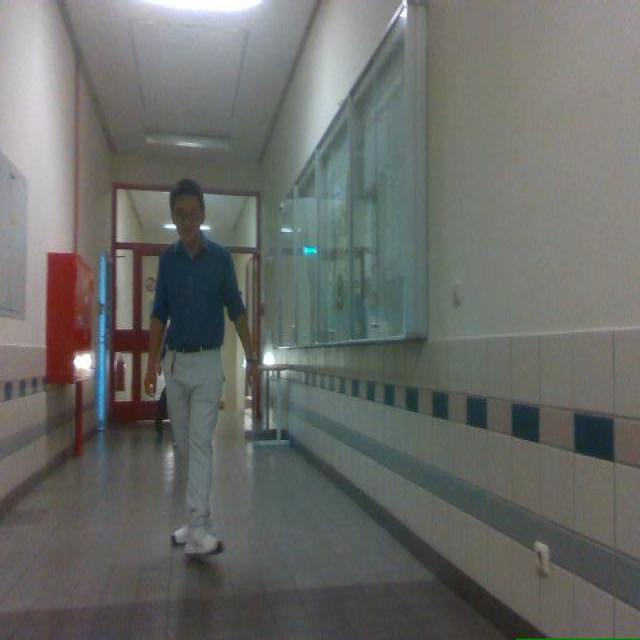humans: (144, 179, 256, 555)
